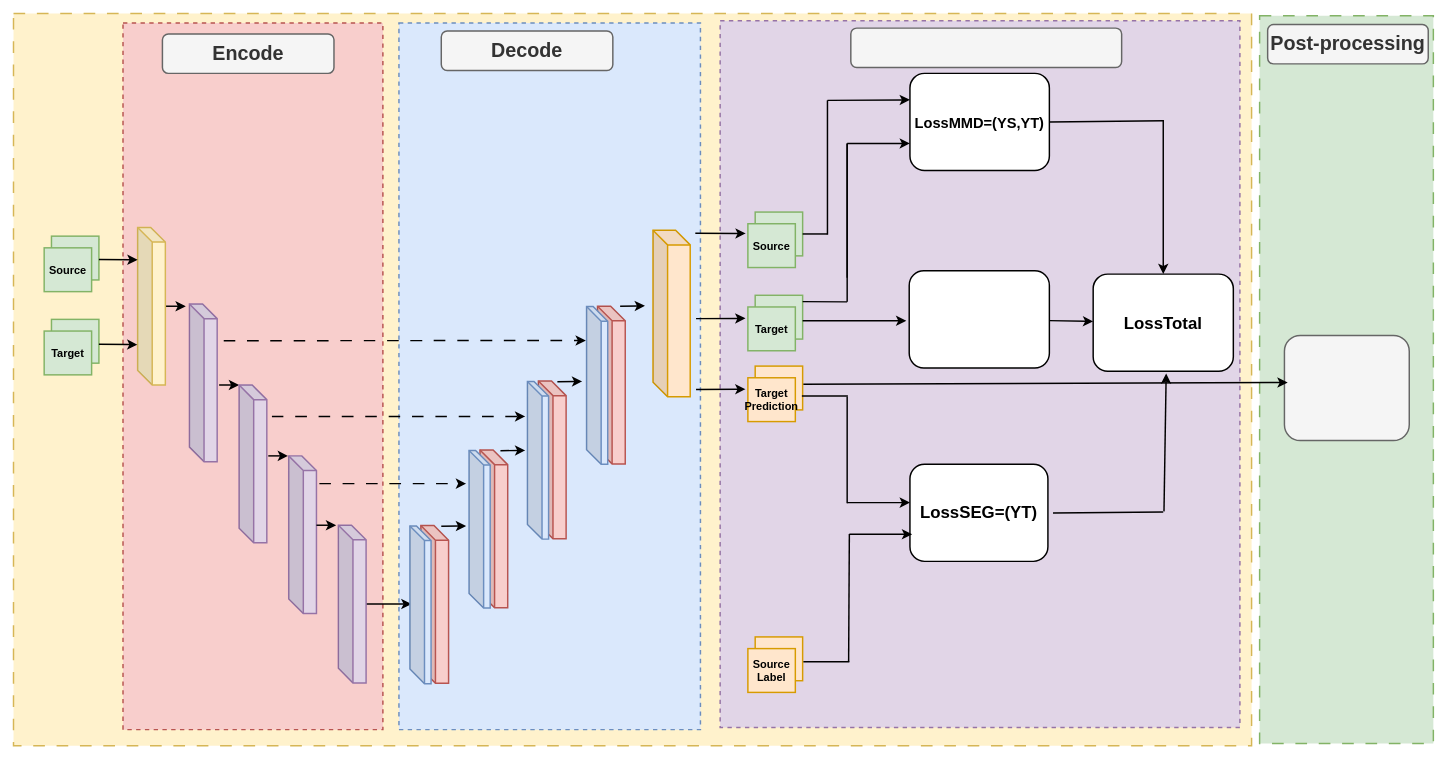
Some shapes in this 1446 by 758 pixel diagram are drawn without their labels. The shapes that lost their labels are listed below. From the top down, each one's centre as x and y in pixels, then its label:
the point at 986,47: Transfer Learning
the point at 979,319: LossENT=(YT)
the point at 1346,387: Post Processing
